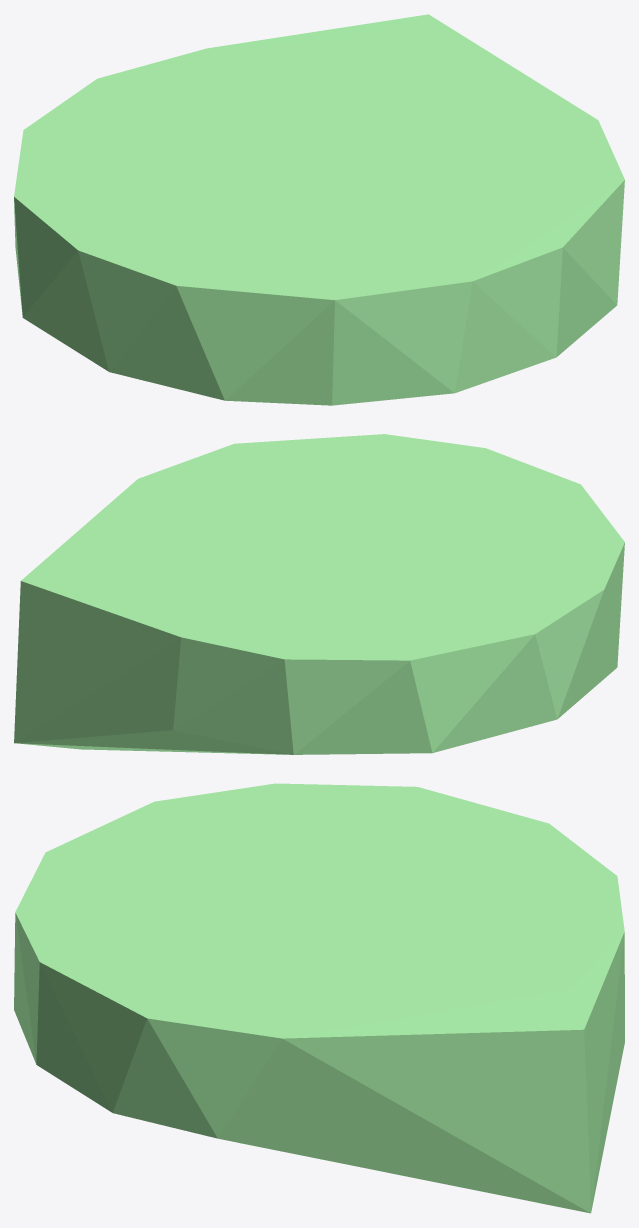
Rendered from panda_link7_resp_coll_3.dae.
3 renders of one model, top to bottom at view 1: azimuth 30°, elevation 25°; view 2: azimuth 150°, elevation 25°; view 3: azimuth 270°, elevation 25°, orthographic. The views are drawn at different scales.
Visible parts, largest first — view 1: node; view 2: node; view 3: node.
Part boxes in pixels (x1,y1,x2,y2): node: (14, 14, 624, 405); node: (14, 434, 624, 754); node: (14, 783, 624, 1213).
Bounding box in the file's own units: 0.095 × 0.0315 × 0.096.
